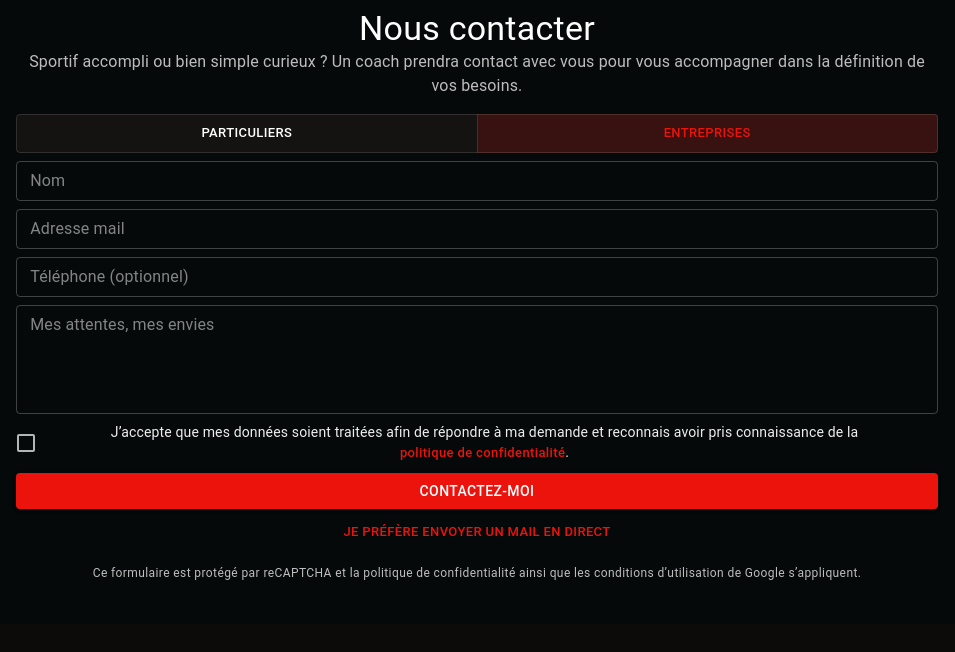
it: Contact form › rend le message obligatoire avec au moins 5 caractères
In the field with placeholder "Adresse mail": (477, 229) [16, 209, 938, 249], type "test@example.com"
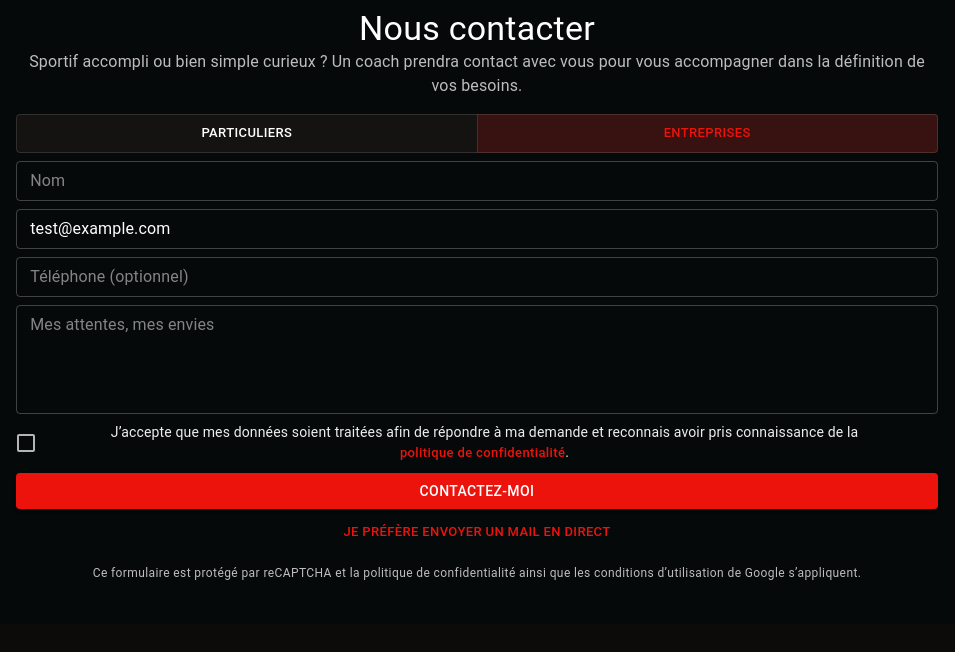
In the text box with placeholder "Mes attentes, mes envies": (477, 359) [30, 313, 924, 405], type "1234"
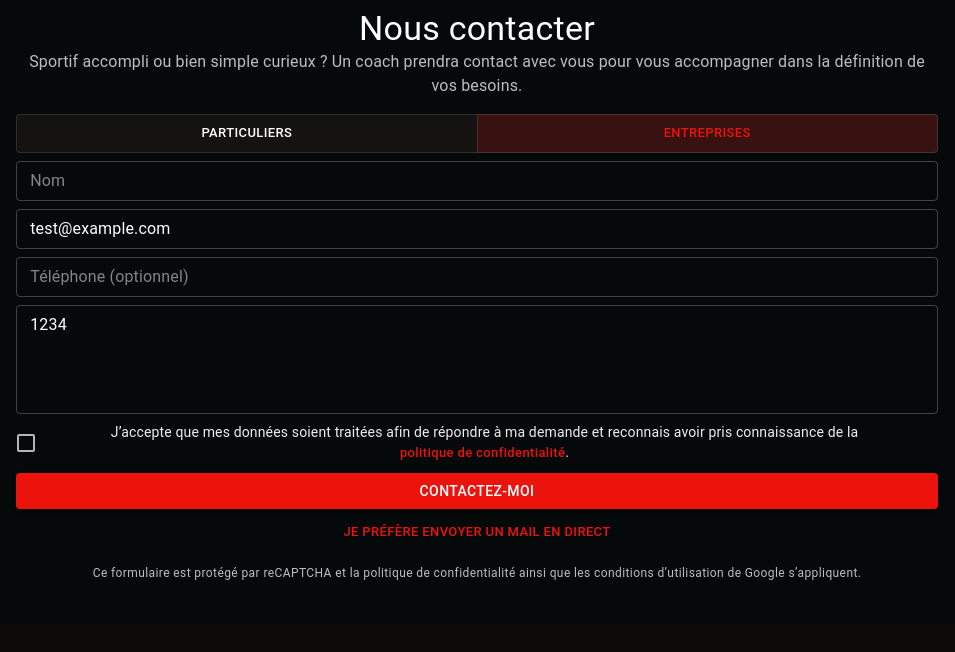
Click the button "CONTACTEZ-MOI": (477, 491) [16, 472, 938, 509]
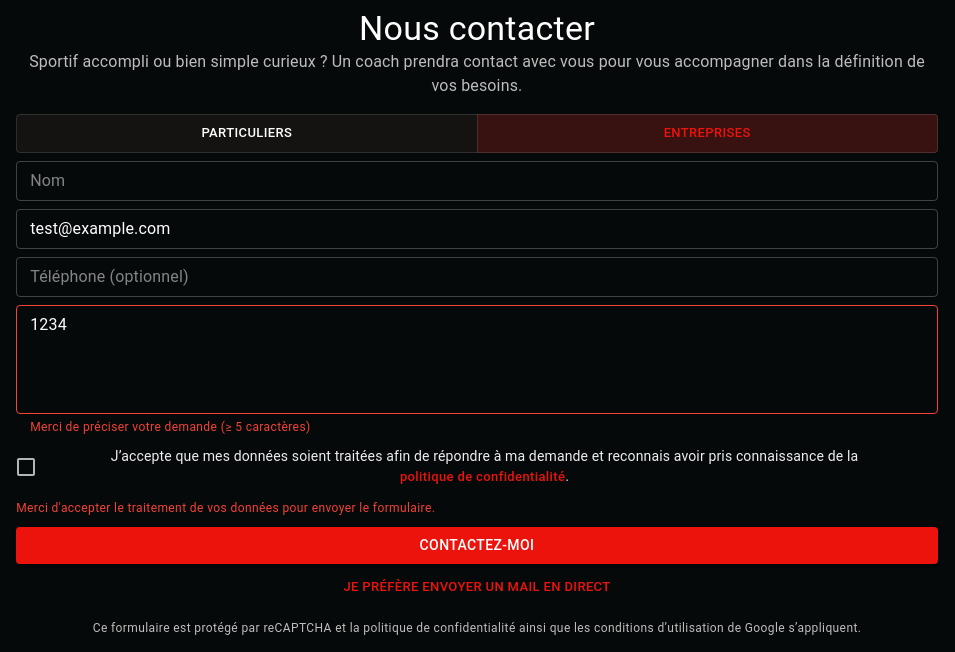
Expected: the text "Merci de préciser votre demande (≥ 5 caractères)" is shown, [30, 420, 311, 434]
